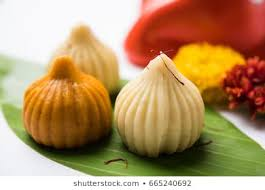modak: (116, 46, 213, 155), (27, 55, 123, 153), (51, 28, 125, 89)
